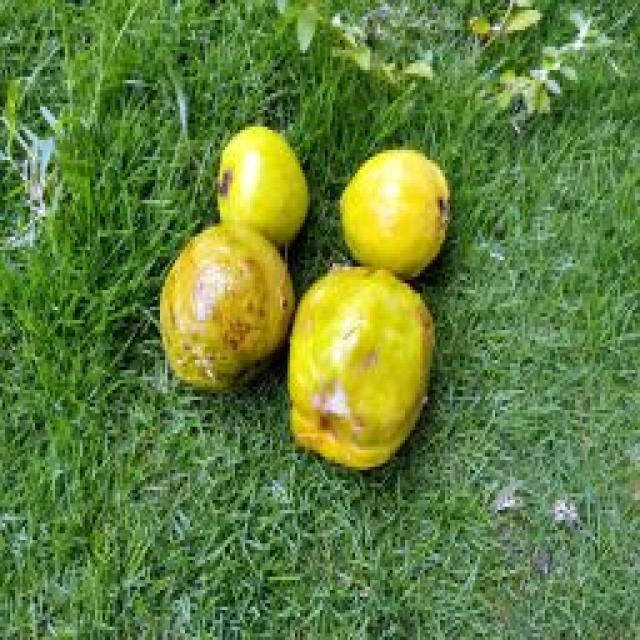Organik: (278, 256, 432, 476), (147, 222, 294, 394), (316, 140, 453, 270), (206, 124, 316, 246)
